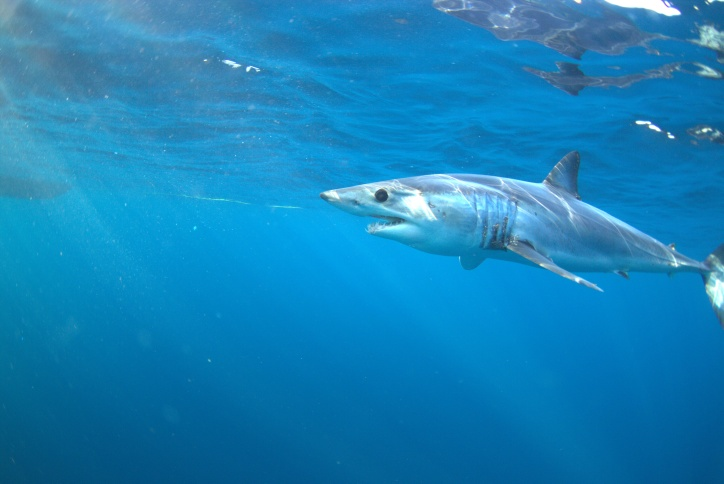Mako: (319, 151, 724, 330)
